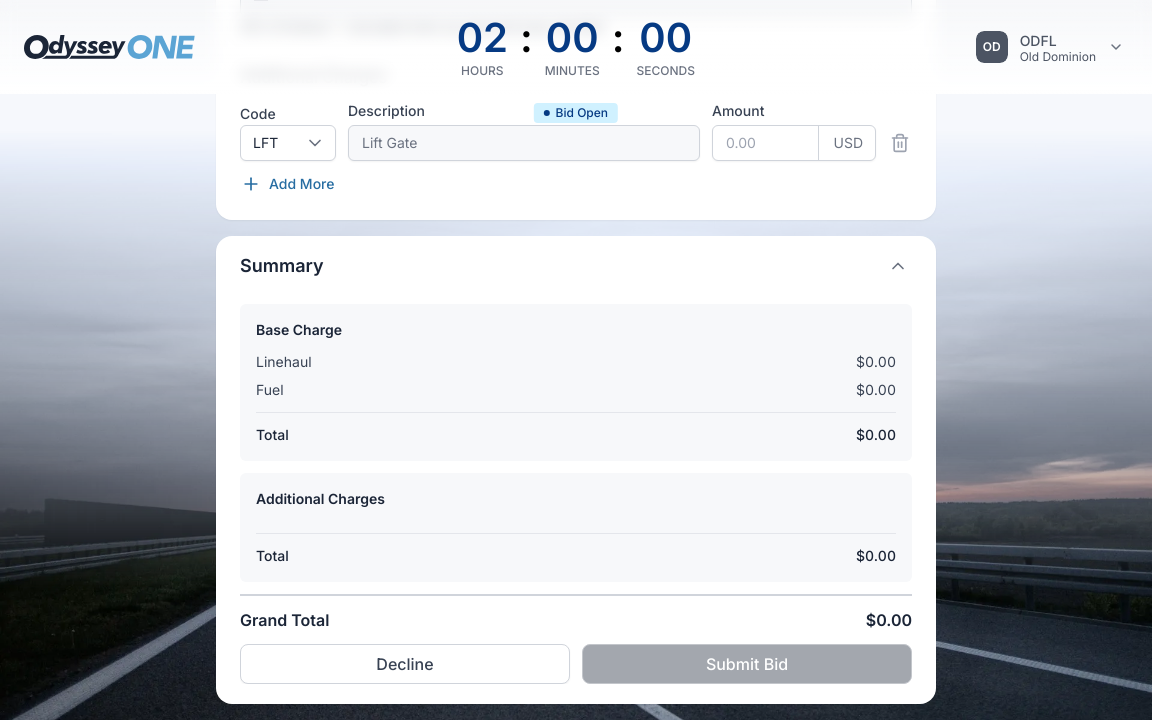
Test: CarrierBid — open quote › Cancel on the Decline dialog closes it without declining
(page scrolled)
Click the button "Decline": {"x": 405, "y": 664} [240, 644, 570, 684]
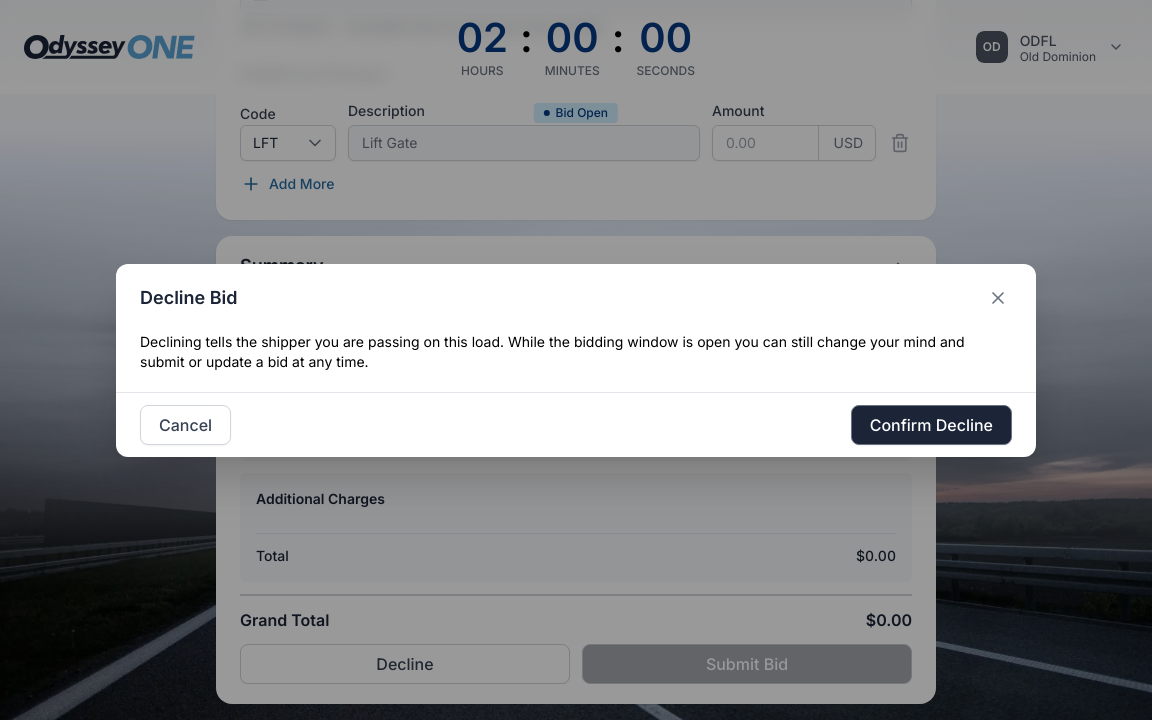
Click the button "Cancel": {"x": 186, "y": 424} [140, 404, 231, 444]
(page scrolled)
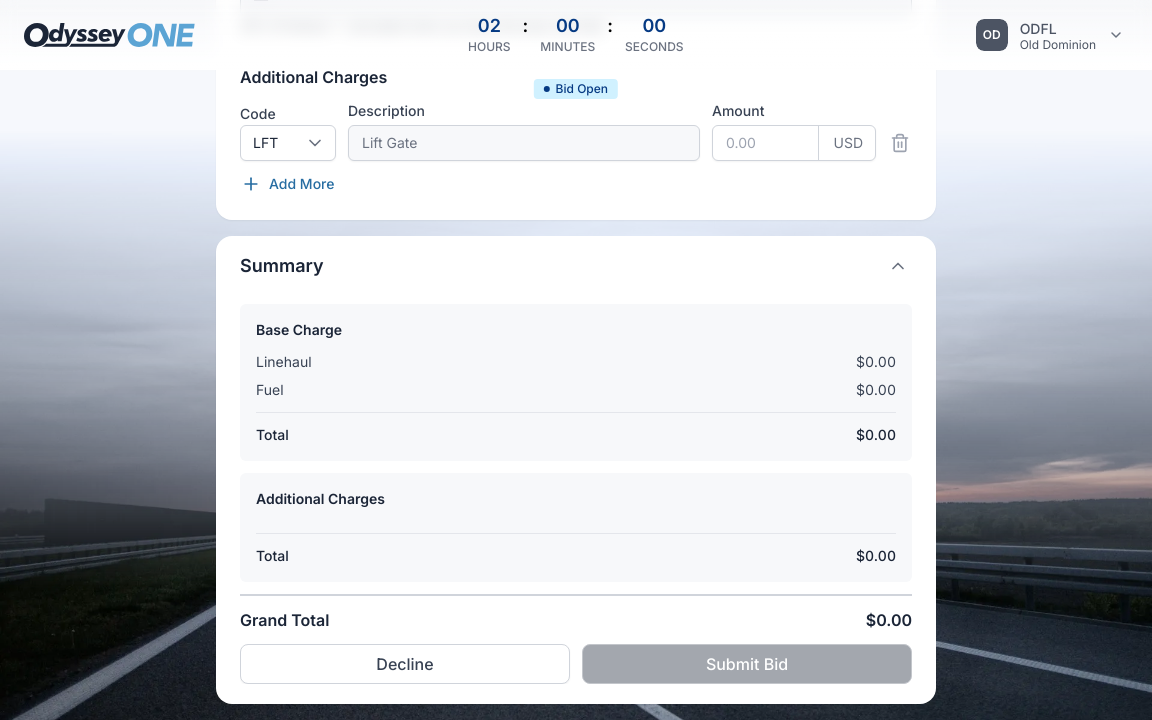
Expected: the text "Decline Bid" is gone
